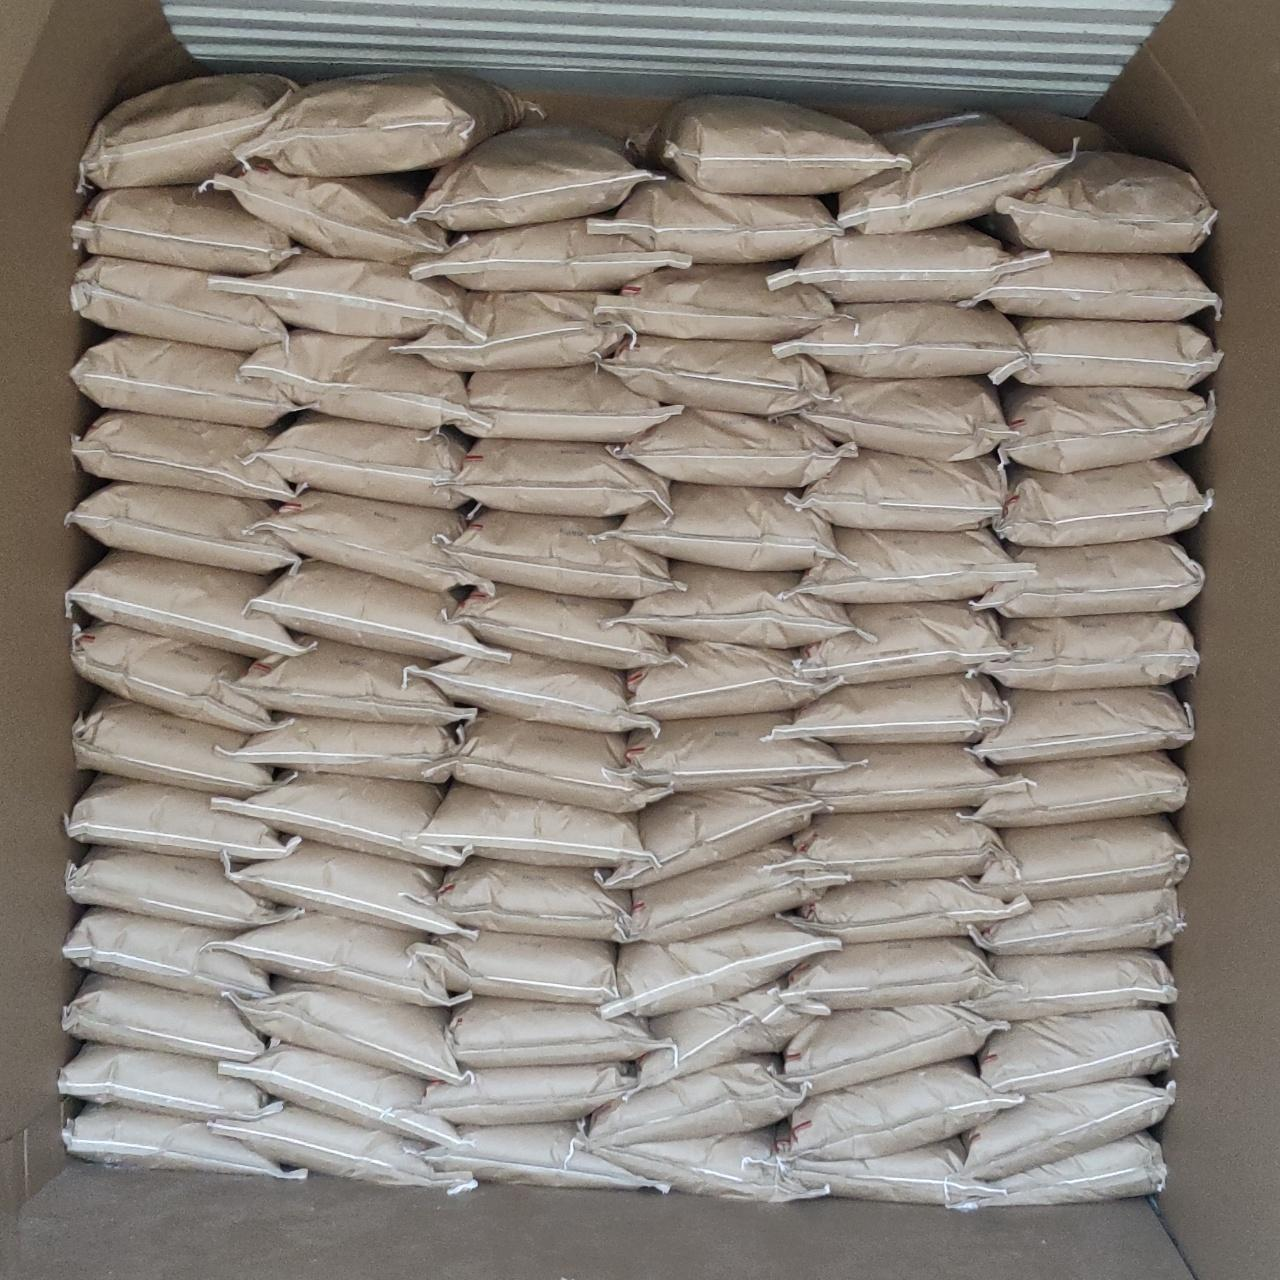sack: (236, 74, 542, 173), (840, 114, 1070, 230), (244, 560, 508, 660), (642, 96, 904, 192), (80, 76, 300, 190), (776, 1058, 1020, 1160), (416, 124, 652, 230), (68, 552, 308, 654), (72, 620, 286, 734), (210, 912, 467, 1006), (196, 166, 445, 263), (220, 1042, 459, 1142), (234, 978, 468, 1080), (216, 774, 462, 869), (256, 490, 488, 590), (229, 840, 474, 934), (240, 331, 476, 428), (220, 250, 470, 340), (74, 694, 288, 798), (992, 152, 1214, 252), (606, 918, 836, 1014), (598, 788, 822, 886), (628, 840, 844, 942), (212, 1107, 476, 1190), (588, 176, 840, 263), (68, 482, 298, 574), (250, 411, 468, 508), (456, 712, 668, 810), (436, 510, 672, 598), (962, 1078, 1175, 1176), (72, 411, 298, 502), (72, 256, 286, 350), (66, 774, 300, 860), (72, 334, 302, 422), (584, 1056, 804, 1148), (634, 983, 826, 1088), (770, 226, 1040, 300), (617, 561, 852, 646), (411, 651, 654, 731), (448, 584, 672, 670), (68, 846, 300, 930), (411, 220, 690, 290), (610, 408, 855, 486), (784, 1006, 1006, 1092), (416, 782, 640, 866), (392, 292, 632, 370), (72, 186, 297, 270), (608, 484, 836, 566), (608, 712, 844, 790), (240, 640, 476, 719), (438, 438, 670, 518), (998, 386, 1214, 470), (798, 374, 1012, 459), (595, 264, 832, 340), (64, 908, 270, 996), (598, 336, 830, 414), (996, 458, 1210, 542), (64, 1104, 304, 1178), (971, 538, 1201, 614), (798, 527, 1030, 602), (776, 304, 1022, 374), (978, 816, 1189, 898), (799, 602, 1022, 680), (790, 450, 1008, 527), (972, 688, 1192, 764), (64, 974, 260, 1060), (420, 1122, 666, 1190), (628, 640, 840, 719), (462, 365, 676, 442), (976, 612, 1198, 686), (60, 1044, 280, 1118), (598, 1128, 822, 1200), (962, 254, 1218, 318), (433, 858, 629, 940), (949, 1132, 1164, 1207), (992, 318, 1220, 388), (770, 674, 1006, 742), (980, 1010, 1175, 1092), (971, 753, 1186, 826), (222, 716, 462, 782), (779, 880, 1030, 942), (410, 932, 617, 1005), (962, 949, 1175, 1020), (792, 810, 1012, 878), (779, 938, 996, 1006), (774, 1141, 996, 1206), (448, 998, 662, 1065), (971, 888, 1182, 954), (812, 745, 1022, 810), (411, 1064, 632, 1121)
